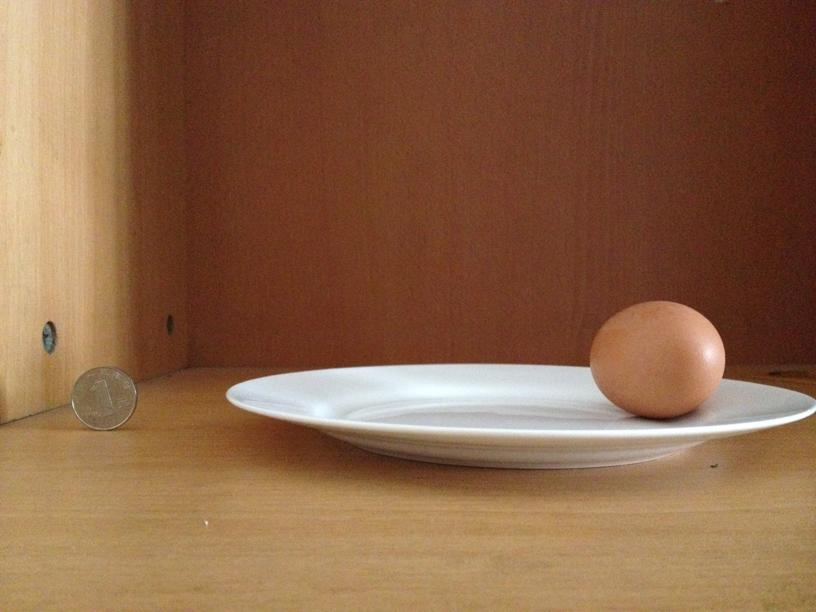coin: (68, 363, 138, 431)
egg: (586, 299, 726, 416)
